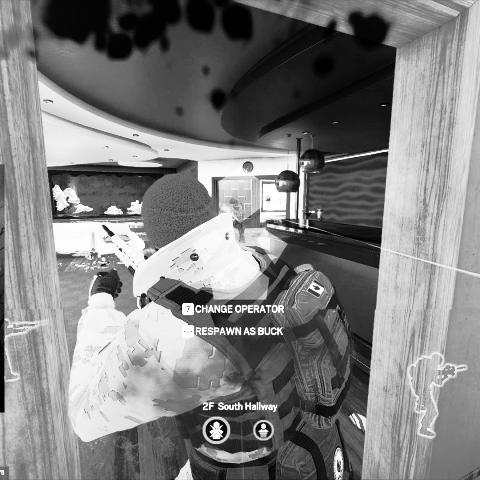Character: (67, 171, 354, 480), (228, 197, 246, 244)
Head: (141, 172, 222, 256), (228, 197, 238, 206)
